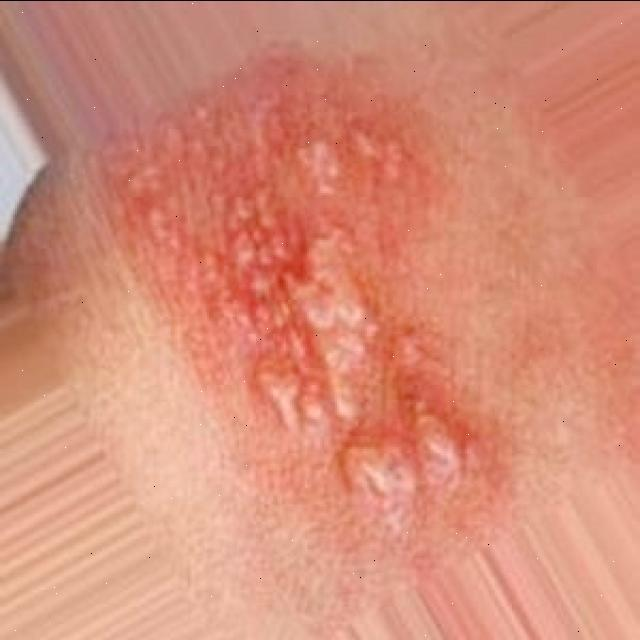Shingles: (150, 86, 477, 518)
